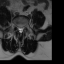CCS_normal: (19, 25, 21, 34)
LFS_normal: (23, 23, 25, 31)
LLS_normal: (21, 25, 23, 34)
RFS_stenosis: (15, 23, 17, 29)
RLS_normal: (17, 24, 19, 33)
